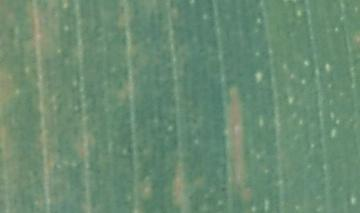tarspot: (218, 185, 229, 195), (255, 9, 263, 19), (168, 1, 176, 10), (118, 4, 125, 14)
